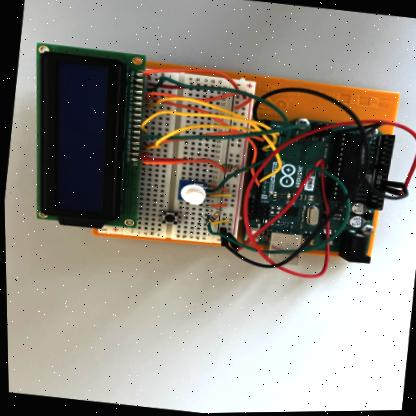ARDUINO: (241, 116, 382, 256)
Breadboard: (96, 63, 254, 246)
Button: (160, 211, 177, 225)
GND: (224, 178, 361, 268), (249, 89, 362, 139)
LCD: (35, 43, 143, 228)
Long wire: (147, 76, 292, 194), (206, 152, 350, 255), (146, 97, 280, 187), (148, 96, 256, 187), (138, 110, 276, 152), (143, 124, 278, 150), (143, 124, 310, 141), (140, 69, 238, 89), (143, 91, 251, 109), (142, 132, 262, 148), (146, 83, 247, 99), (139, 158, 227, 173), (139, 152, 190, 161)
Potentiometer: (177, 181, 205, 205)
Resistor: (221, 164, 241, 171), (208, 211, 220, 222)
Short wire: (209, 219, 229, 225), (211, 185, 227, 192), (207, 194, 232, 197), (209, 204, 226, 208)
